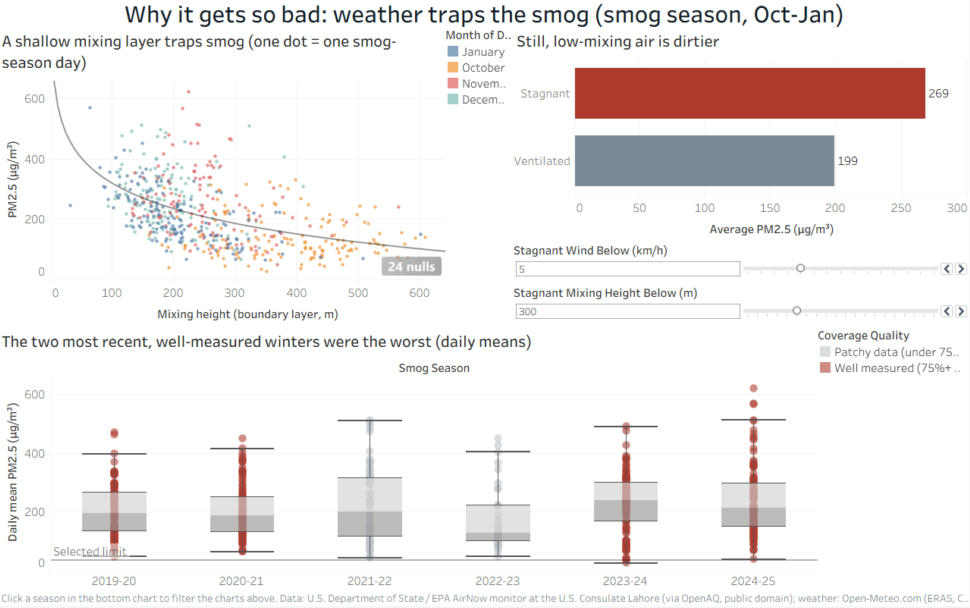

The page's visual inventory and layout, read from the dashboard file:
{"tool":"tableau","page":{"name":"Why: Weather","canvas":[1280,800],"ordinal":1},"visuals":[{"type":"text","box":[0,0,1280,36]},{"type":"NONE","title":"Mixing Height vs PM2.5","box":[0,36,743.7,371]},{"type":"legend","title":"Mixing Height vs PM2.5","param":"[federated.0ahyg8e1xelf3914bag3r0yukuro].[mn:Date Time:ok]","box":[743.7,36,90,371]},{"type":"NONE","title":"Stagnant vs Ventilated","box":[833.8,36,446.2,259]},{"type":"parameter","param":"[Parameters].[Parameter 3]","box":[833.8,295,446.2,56]},{"type":"parameter","param":"[Parameters].[Parameter 4]","box":[833.8,351,446.2,56]},{"type":"NONE","title":"Smog Seasons","box":[0,407,1080,371]},{"type":"legend","title":"Smog Seasons","param":"[federated.0ahyg8e1xelf3914bag3r0yukuro].[none:Calculation_B8182103BA7B4970855AE","box":[1080,407,200,371]},{"type":"text","box":[0,778,1280,22]}]}

Visuals, with their boxes in screenshot pixels (x1, y1, x2, y2), scaled from the page's 1280x800 canvas onto the 970x608 screenshot:
text: select_region(0, 0, 969, 27)
"Mixing Height vs PM2.5" NONE: select_region(0, 27, 564, 309)
"Mixing Height vs PM2.5" legend: select_region(564, 27, 632, 309)
"Stagnant vs Ventilated" NONE: select_region(632, 27, 969, 224)
parameter: select_region(632, 224, 969, 267)
parameter: select_region(632, 267, 969, 309)
"Smog Seasons" NONE: select_region(0, 309, 818, 591)
"Smog Seasons" legend: select_region(818, 309, 969, 591)
text: select_region(0, 591, 969, 607)
